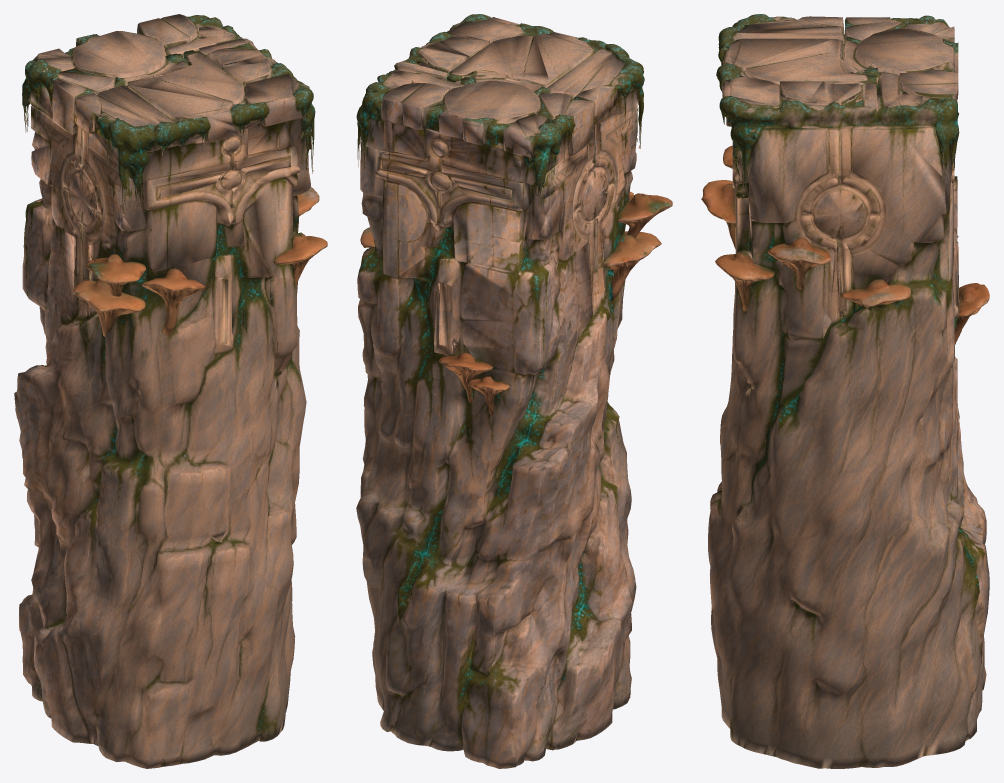
Rendered from citadel_stack.fbx.
3 views of the same model, side by side, from view 1: azimuth 30°, elevation 25°; view 2: azimuth 150°, elevation 25°; view 3: azimuth 270°, elevation 25° (orthographic). The views are drawn at different scales.
Visible parts, largest first — view 1: citadel_stack; view 2: citadel_stack; view 3: citadel_stack.
Part boxes in pixels (left/top/right/bottom): citadel_stack: left=14, top=14, right=327, bottom=768; citadel_stack: left=356, top=14, right=672, bottom=768; citadel_stack: left=701, top=14, right=989, bottom=768.
Size of the model in its own units: 9.7 by 24 by 9.53.
